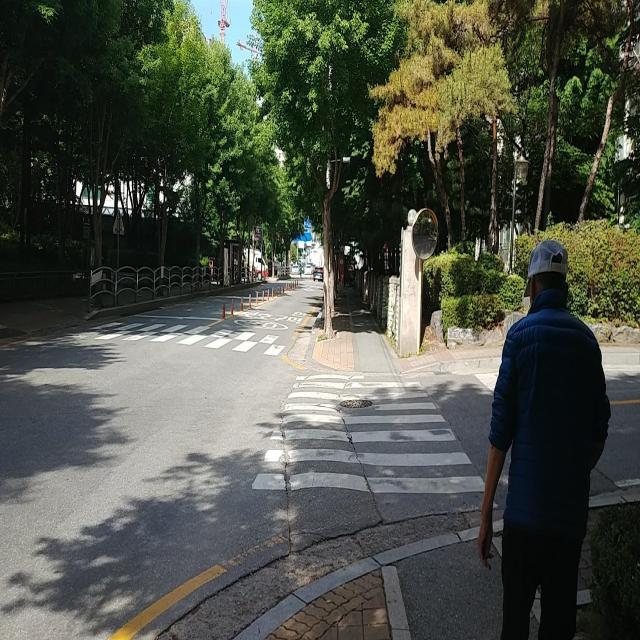횡단보도: (250, 371, 487, 495), (55, 325, 298, 356)
